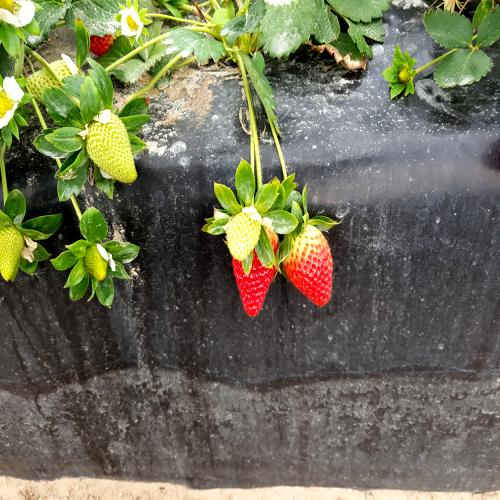ripe: (282, 223, 336, 315), (236, 230, 279, 324)
unripe: (84, 105, 145, 194), (27, 52, 82, 107), (222, 205, 261, 262), (3, 223, 32, 291), (81, 243, 116, 288)
